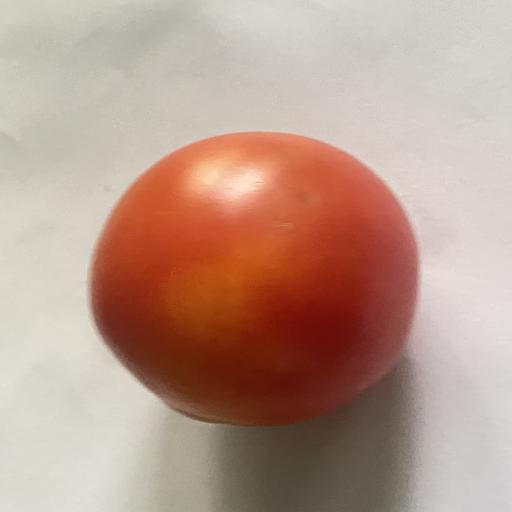ripe: (90, 132, 419, 426)
